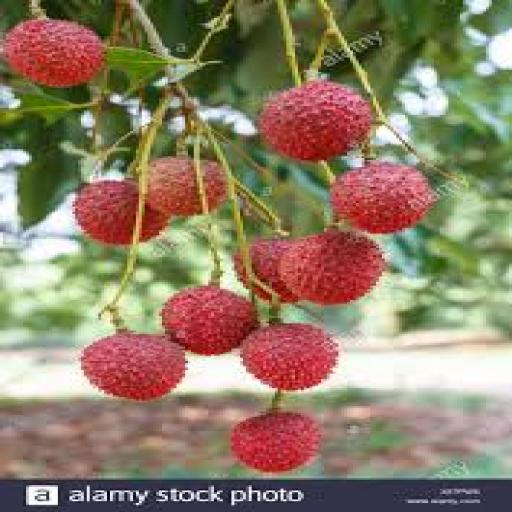lychee: (261, 81, 373, 161), (281, 229, 384, 305), (330, 162, 433, 233), (81, 333, 185, 400), (3, 20, 104, 86), (162, 286, 257, 355), (241, 324, 338, 391), (232, 412, 321, 472), (73, 180, 138, 244), (148, 157, 202, 215), (249, 239, 297, 303)
